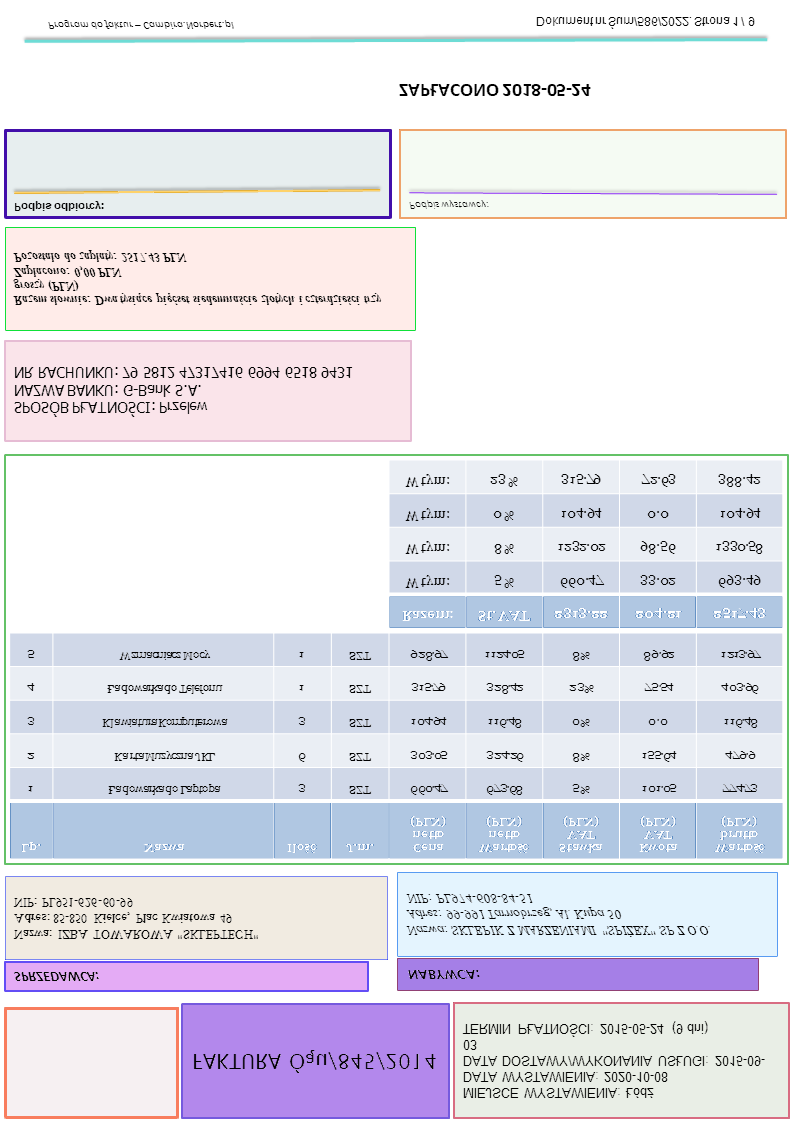Table: (8, 634, 781, 862), (388, 458, 784, 631)
TextBox: (459, 1018, 768, 1104), (10, 249, 385, 311), (11, 360, 357, 421), (404, 892, 713, 941), (10, 892, 261, 946), (189, 1046, 438, 1077), (397, 79, 594, 102), (532, 14, 755, 32), (45, 18, 235, 34), (11, 198, 108, 216), (406, 196, 489, 217), (12, 967, 101, 986), (403, 965, 482, 985)
